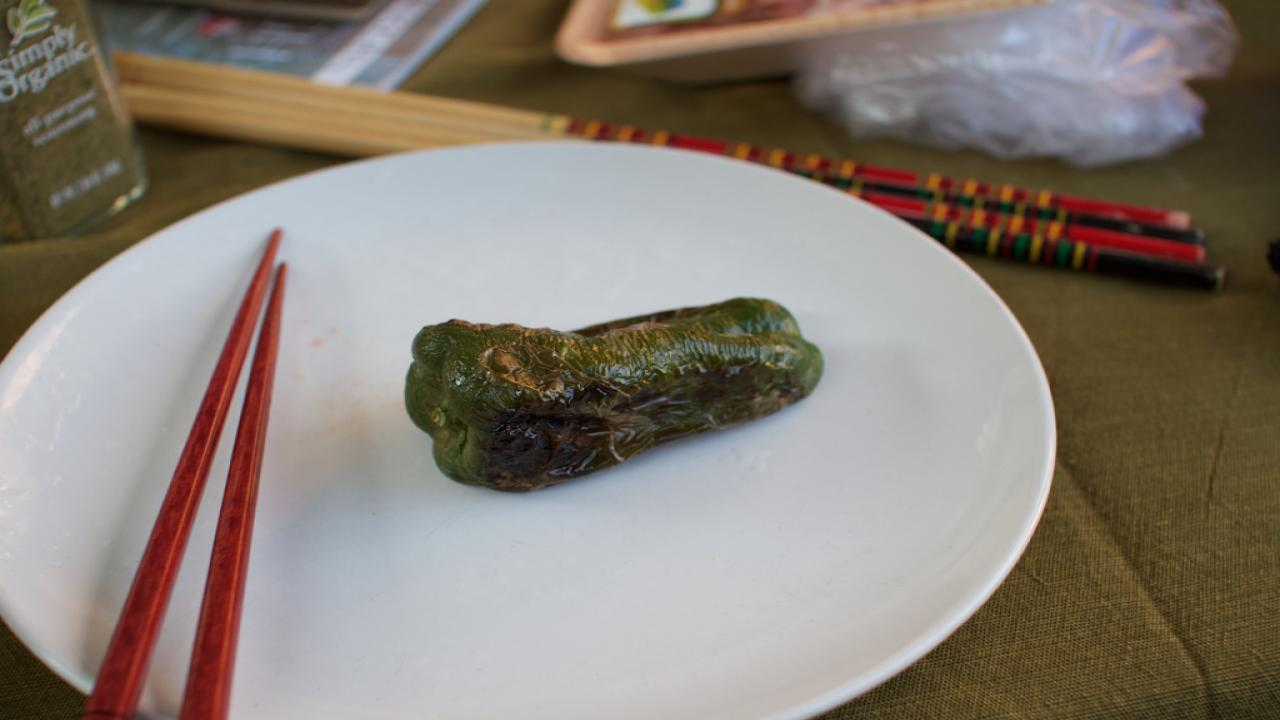chopstick: (152, 67, 1184, 275), (86, 230, 285, 720)
